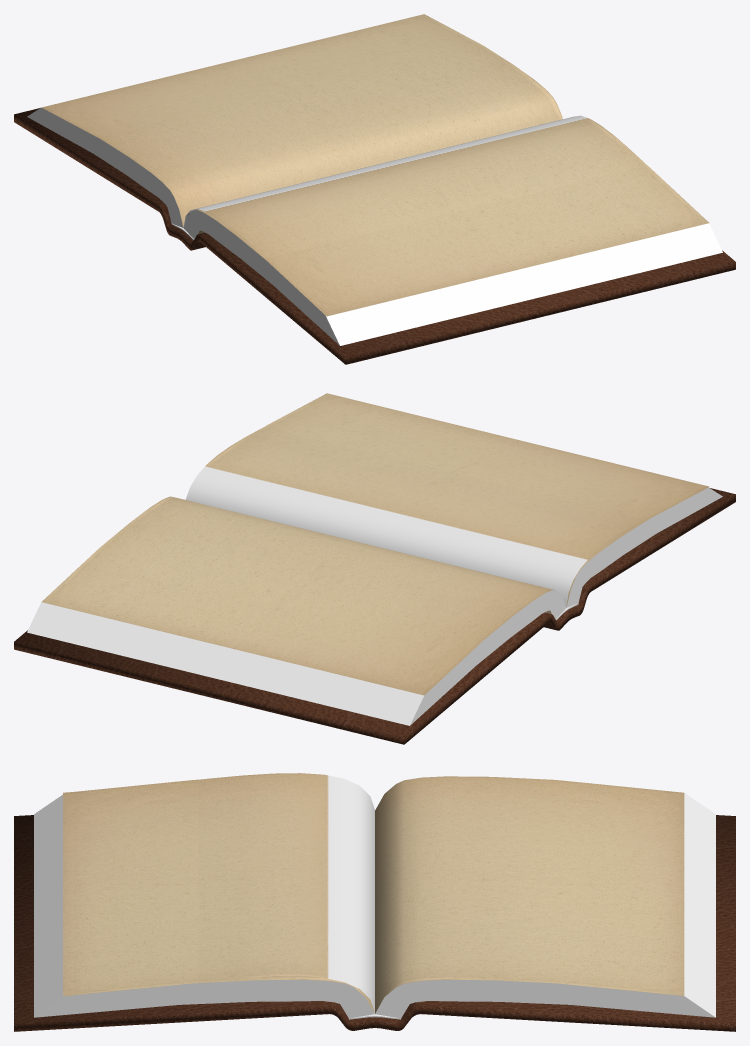
The model's file is book.gltf.
3 renders of one model, top to bottom at view 1: azimuth 30°, elevation 25°; view 2: azimuth 150°, elevation 25°; view 3: azimuth 270°, elevation 25°, orthographic. The views are drawn at different scales.
Visible parts, largest first — view 1: Base Pages, Flipping Page, Binding; view 2: Base Pages, Flipping Page, Binding; view 3: Base Pages, Flipping Page, Binding.
Boxes of the visible parts, x1,y1,x2,y2 form: Base Pages: (27,14,722,345); Flipping Page: (183,115,709,316); Binding: (14,108,735,364); Base Pages: (27,396,722,725); Flipping Page: (185,393,709,606); Binding: (14,488,735,744); Base Pages: (34,776,715,1018); Flipping Page: (63,773,374,1012); Binding: (14,815,735,1031).
Size of what is drawn, in the model's own units: 2.04 by 0.2447 by 3.
4 materials, 2 textured.
